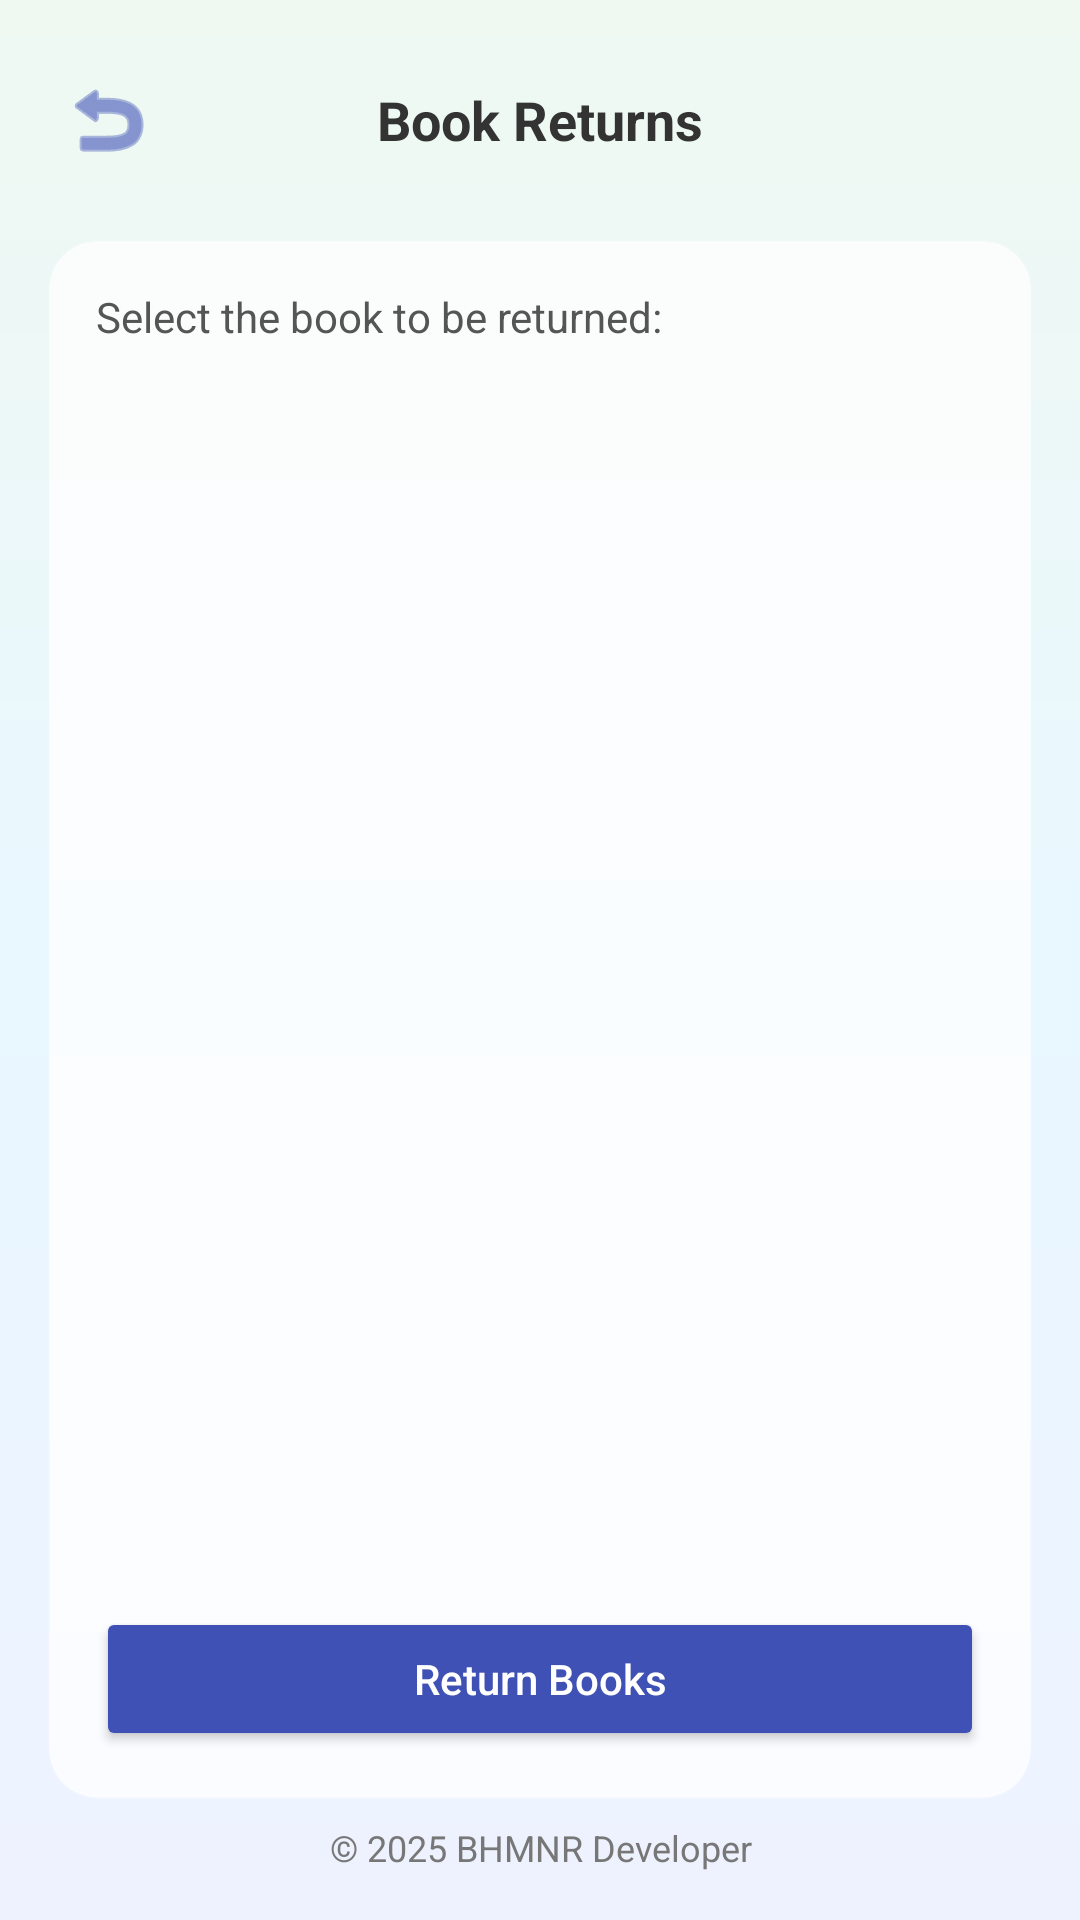

Named icons in this screenshot (1080 x 1920) and their centers, point (x, y):
Back: point (109, 120)
